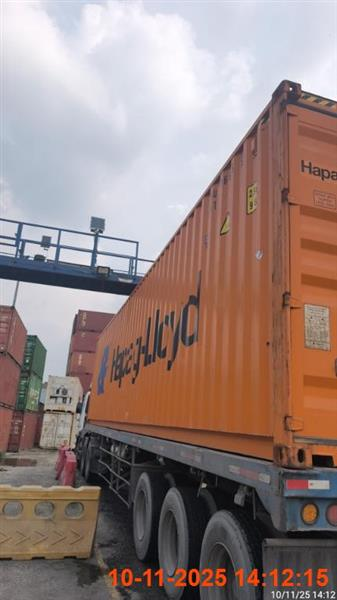bent: (72, 80, 335, 598)
